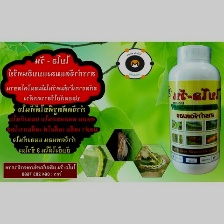insecticide: (165, 43, 223, 175)
